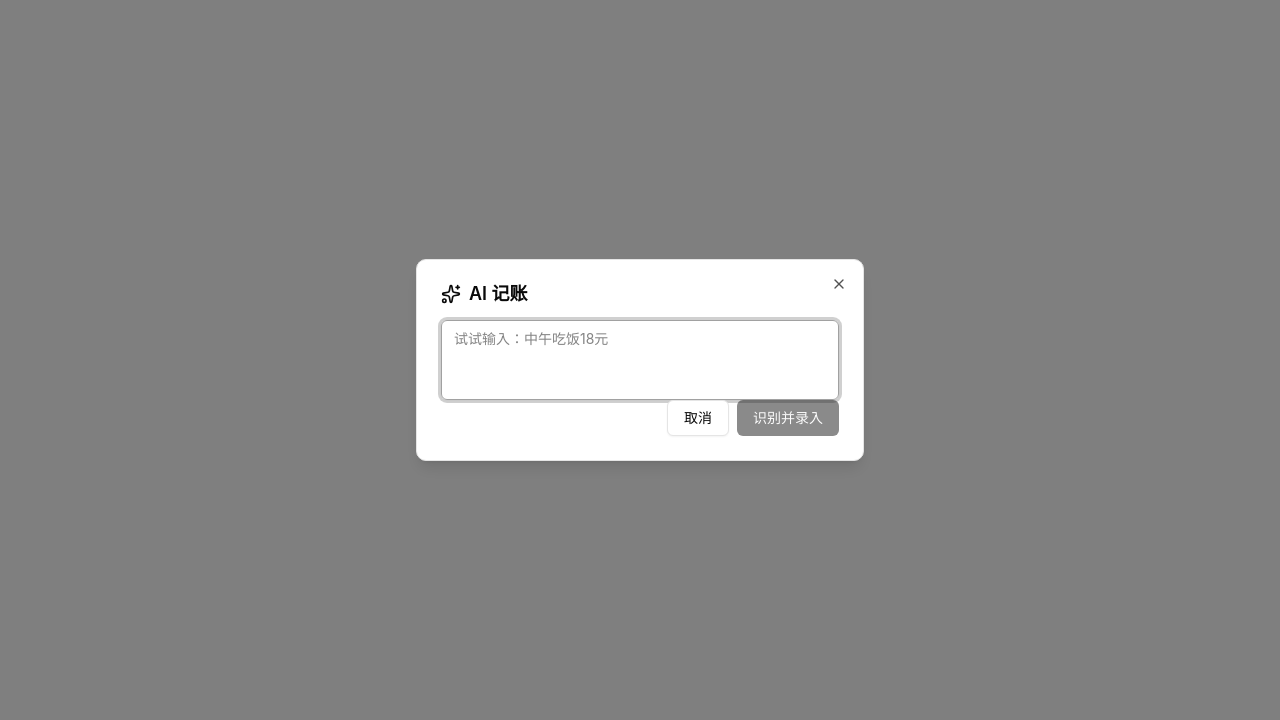
it: AiInputDialog › shows error on failure without closing dialog
The width and height of the screenshot is (1280, 720).
Type "test" into the text box with placeholder "试试输入：中午吃饭18元".
click(640, 360); type("test")  # box x1=441 y1=320 x2=839 y2=400
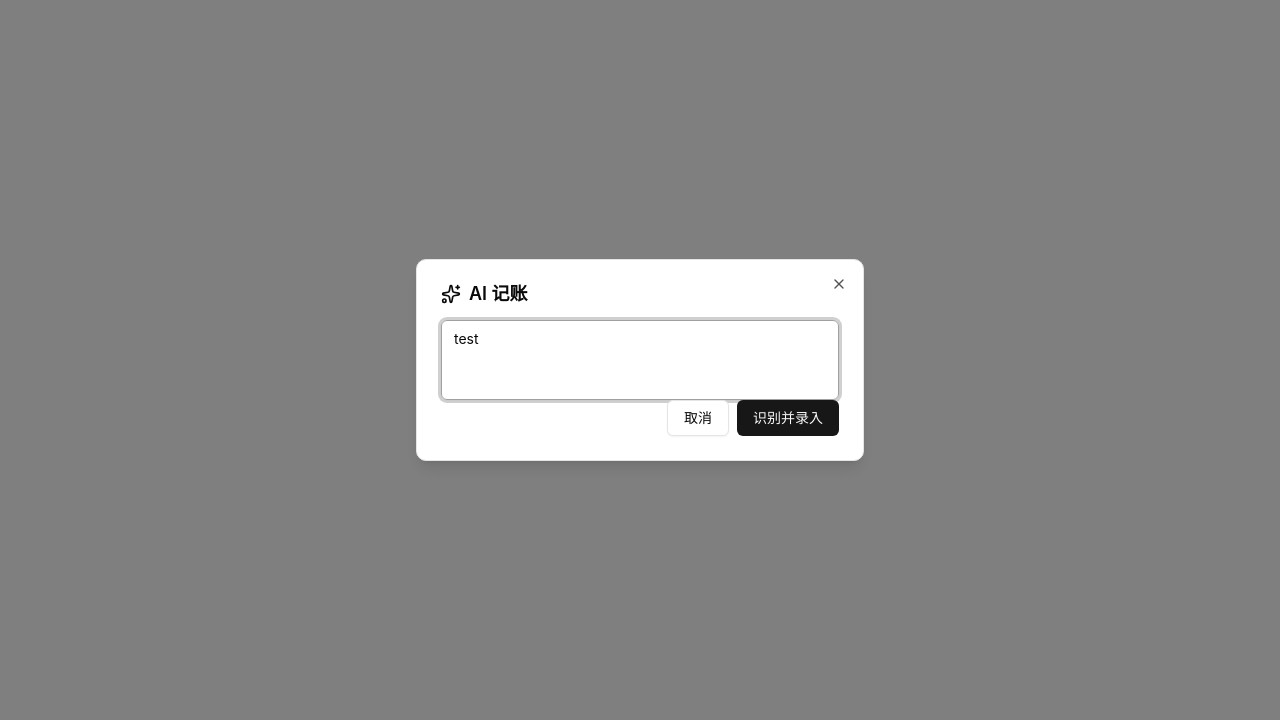
Click the button "识别并录入".
click(788, 418)  # box x1=737 y1=400 x2=839 y2=436
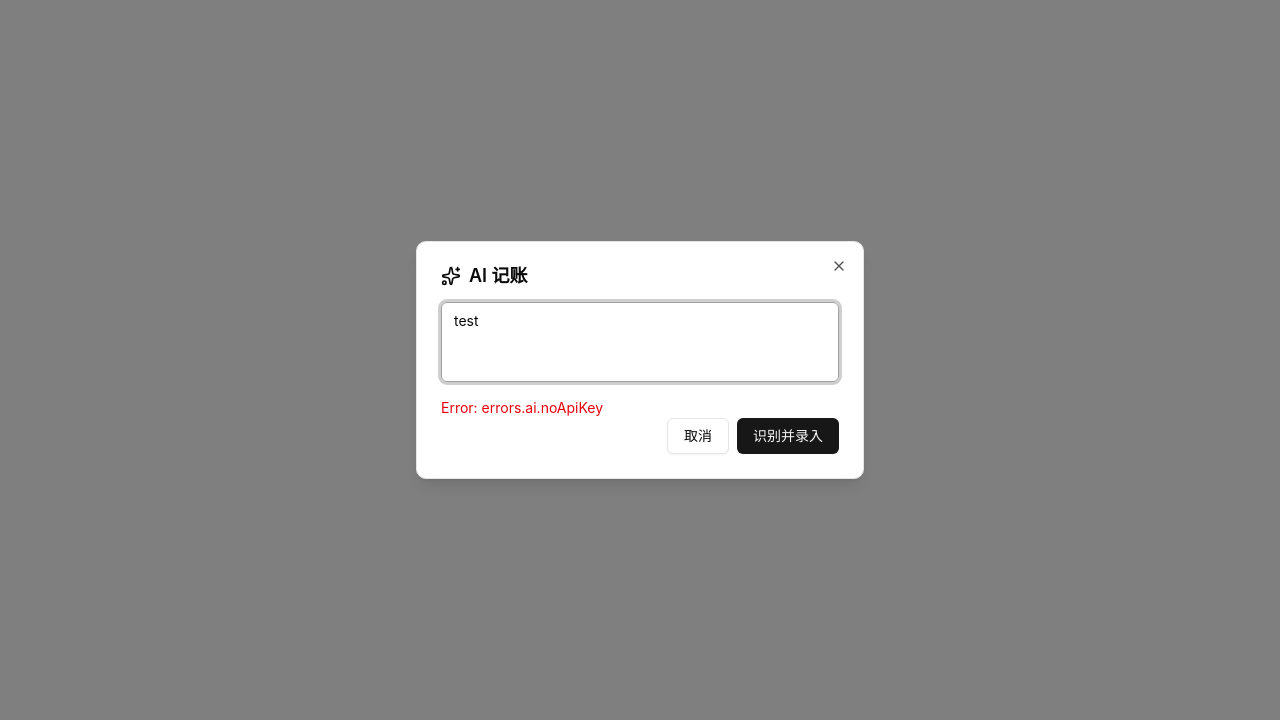
Expected: the text "Error: errors.ai.noApiKey" is shown, x1=441 y1=399 x2=603 y2=416
